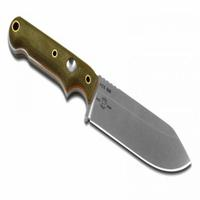knife: (6, 12, 192, 175)
